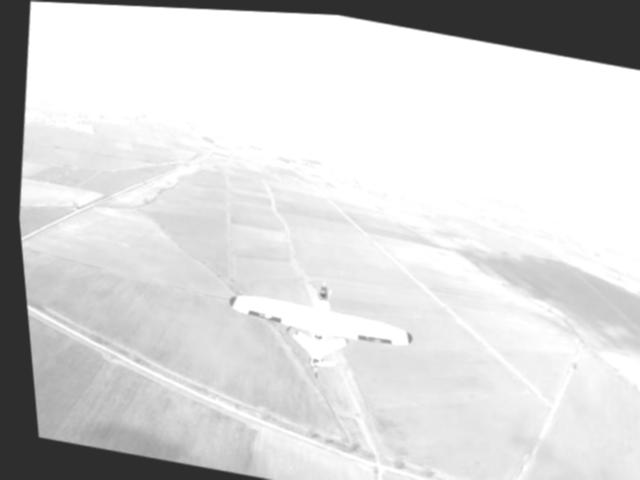hedef: (197, 236, 433, 402)
